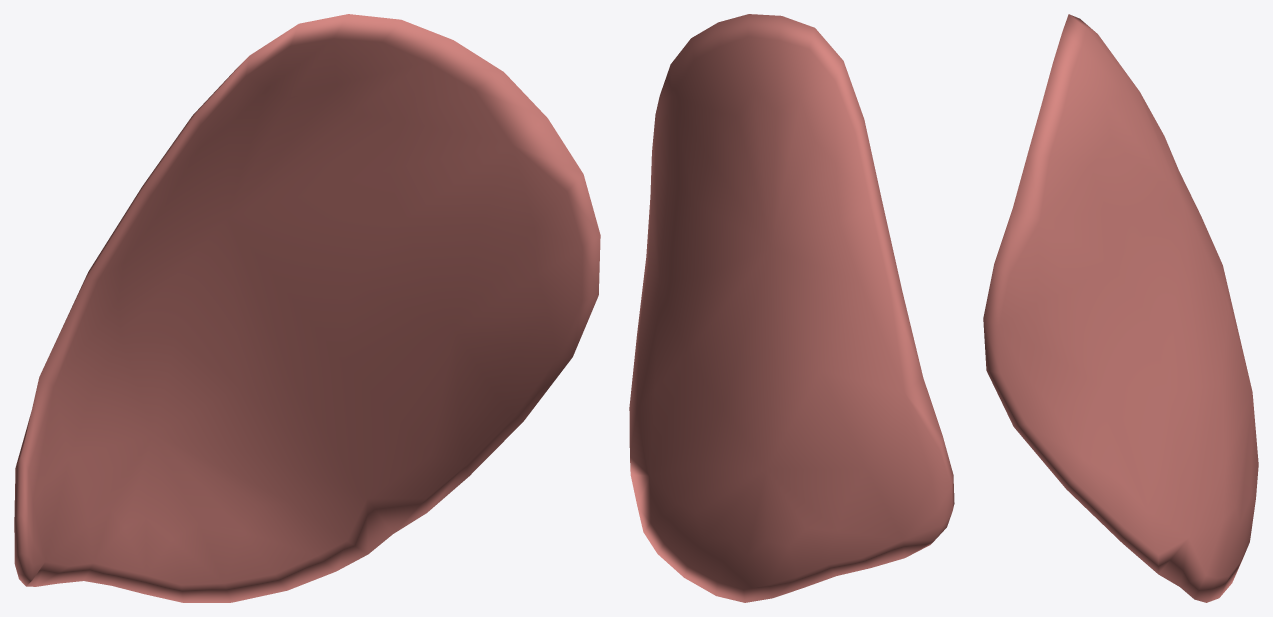
3 renders of one model, left to right at view 1: azimuth 30°, elevation 25°; view 2: azimuth 150°, elevation 25°; view 3: azimuth 270°, elevation 25°, orthographic. The views are drawn at different scales.
Parts seen in each view (by area): view 1: ZA_1471f18da7901f17; view 2: ZA_1471f18da7901f17; view 3: ZA_1471f18da7901f17.
Boxes of the visible parts, x1,y1,x2,y2 form: ZA_1471f18da7901f17: (14,14,600,602); ZA_1471f18da7901f17: (629,14,954,602); ZA_1471f18da7901f17: (983,14,1258,602).
Size of the model in its own units: 0.0129 by 0.0169 by 0.00756.
